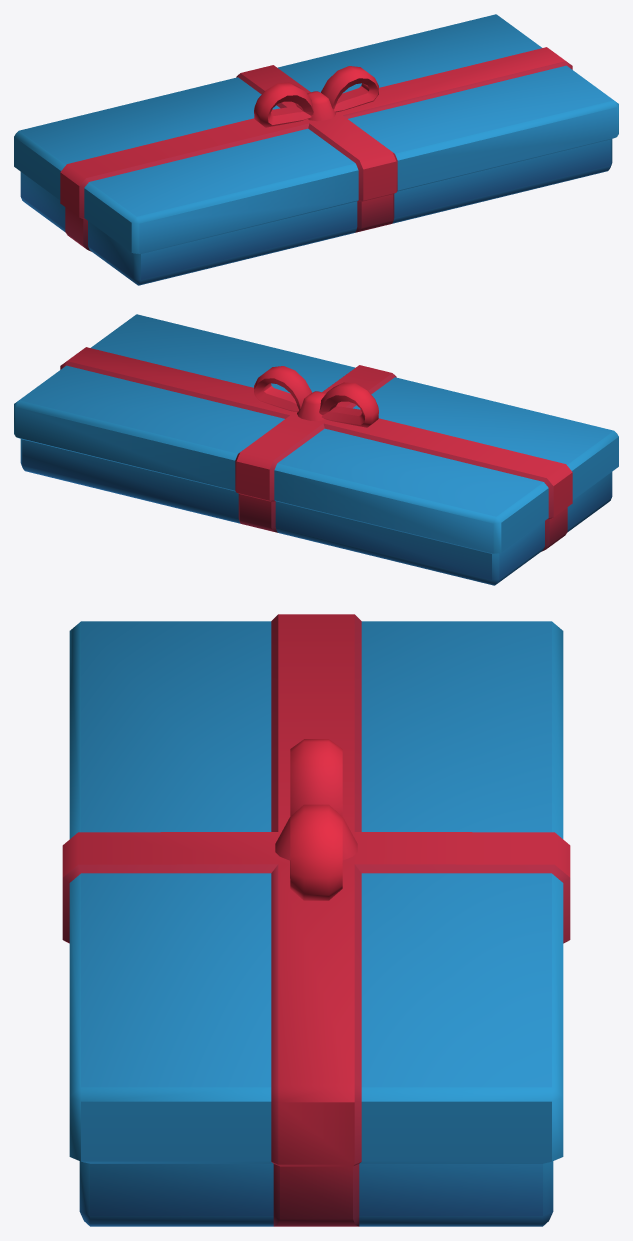
The model's file is present_F_blue.glb.
3 views of the same model, one above another, from view 1: azimuth 30°, elevation 25°; view 2: azimuth 150°, elevation 25°; view 3: azimuth 270°, elevation 25° (orthographic). The views are drawn at different scales.
Visible parts, largest first — view 1: present_F_blue; view 2: present_F_blue; view 3: present_F_blue.
Boxes of the visible parts, x1,y1,x2,y2 form: present_F_blue: [14, 14, 618, 285]; present_F_blue: [14, 314, 618, 585]; present_F_blue: [62, 614, 570, 1226].
Bounding box in the file's own units: 2.16 × 0.4617 × 0.9638.
Materials: 1 (1 with a texture image).
